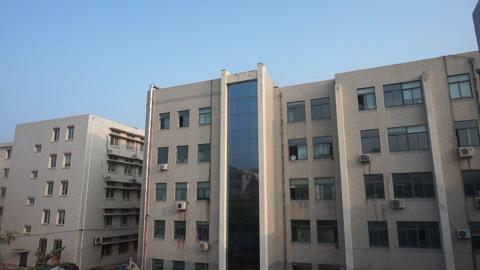UAV: (144, 214, 150, 217)
